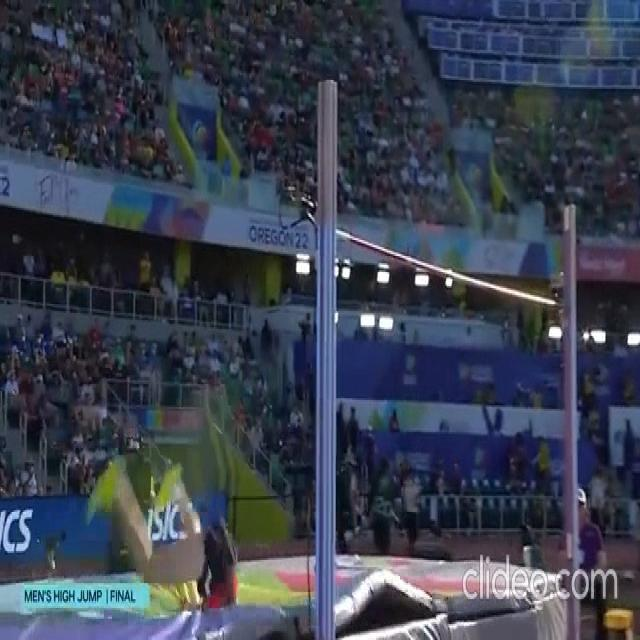land: (87, 458, 238, 608)
